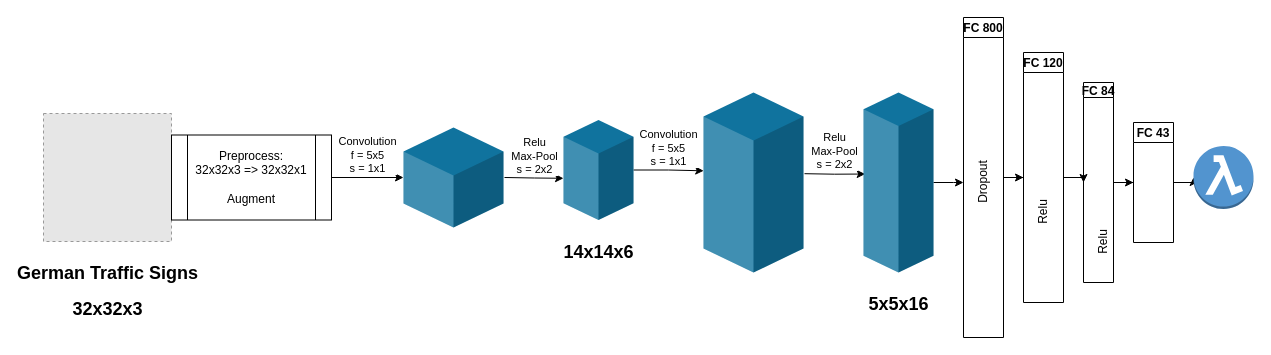
This 1271x355 diagram has some shape labels left out. Grey dashed boxes stand in for pictures. Each missing label, with the centre of its shape:
10x10x16: the point at 753,182
28x28x6: the point at 453,177
Softmax: the point at 1223,177
